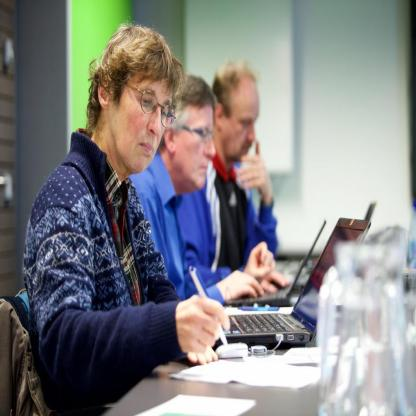board: (212, 218, 372, 348), (224, 222, 324, 304), (365, 203, 375, 220)
